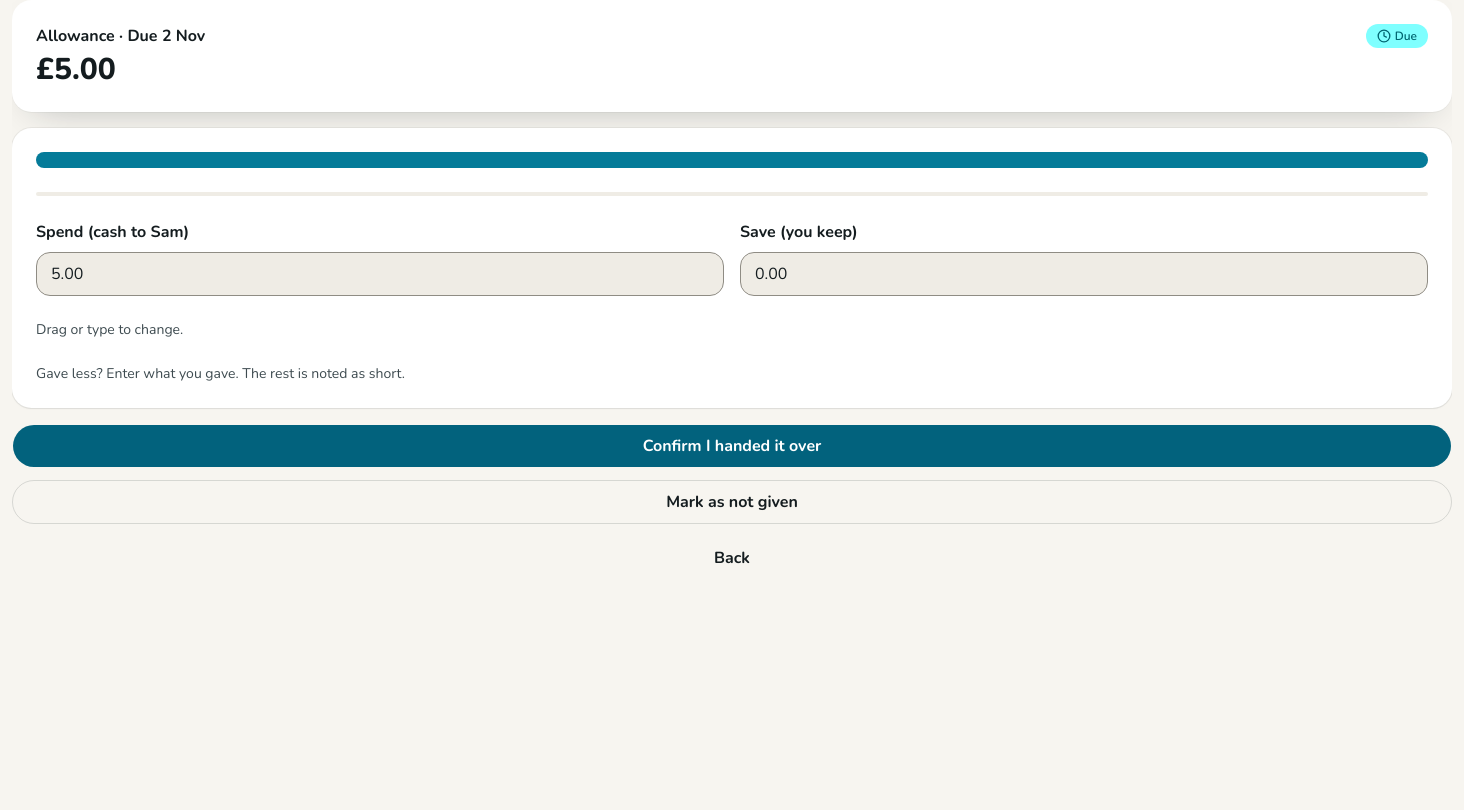
HandoverForm › fills Spend with the rest when only Save is typed
Replace the text in the field labelled "Save (you keep)" with "2": (1084, 274) [740,252,1428,296]
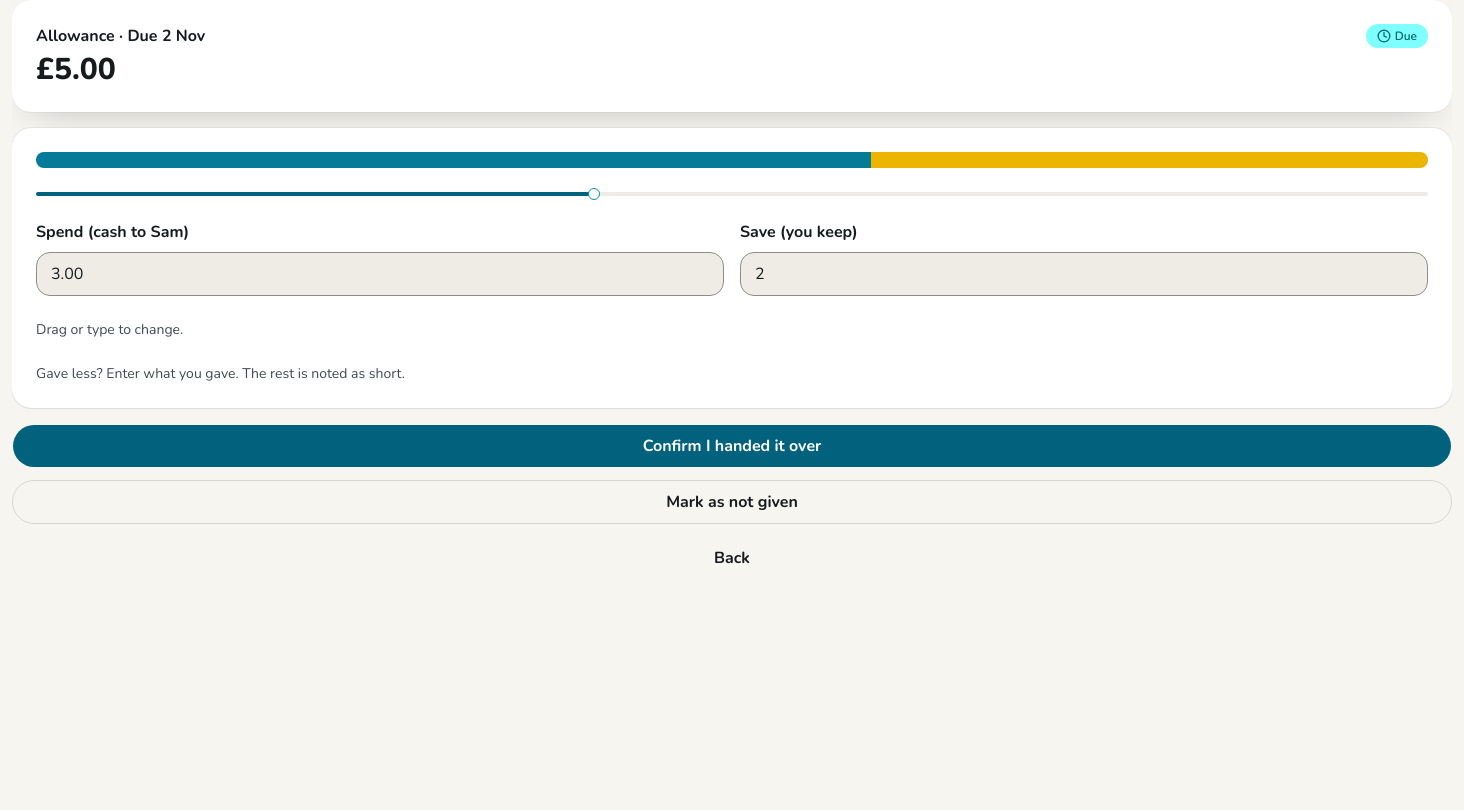
Expected: the field labelled "Spend (cash to Sam)" holds "3.00", [36,252,724,296]
